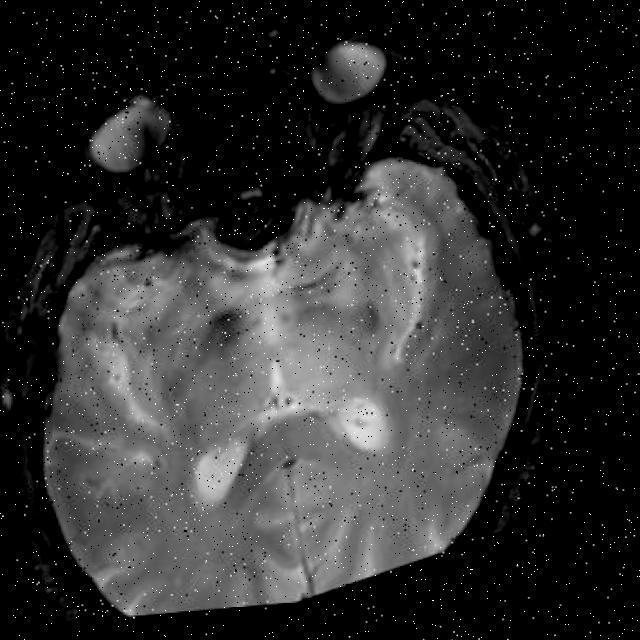EMCI: (184, 289, 276, 378)
